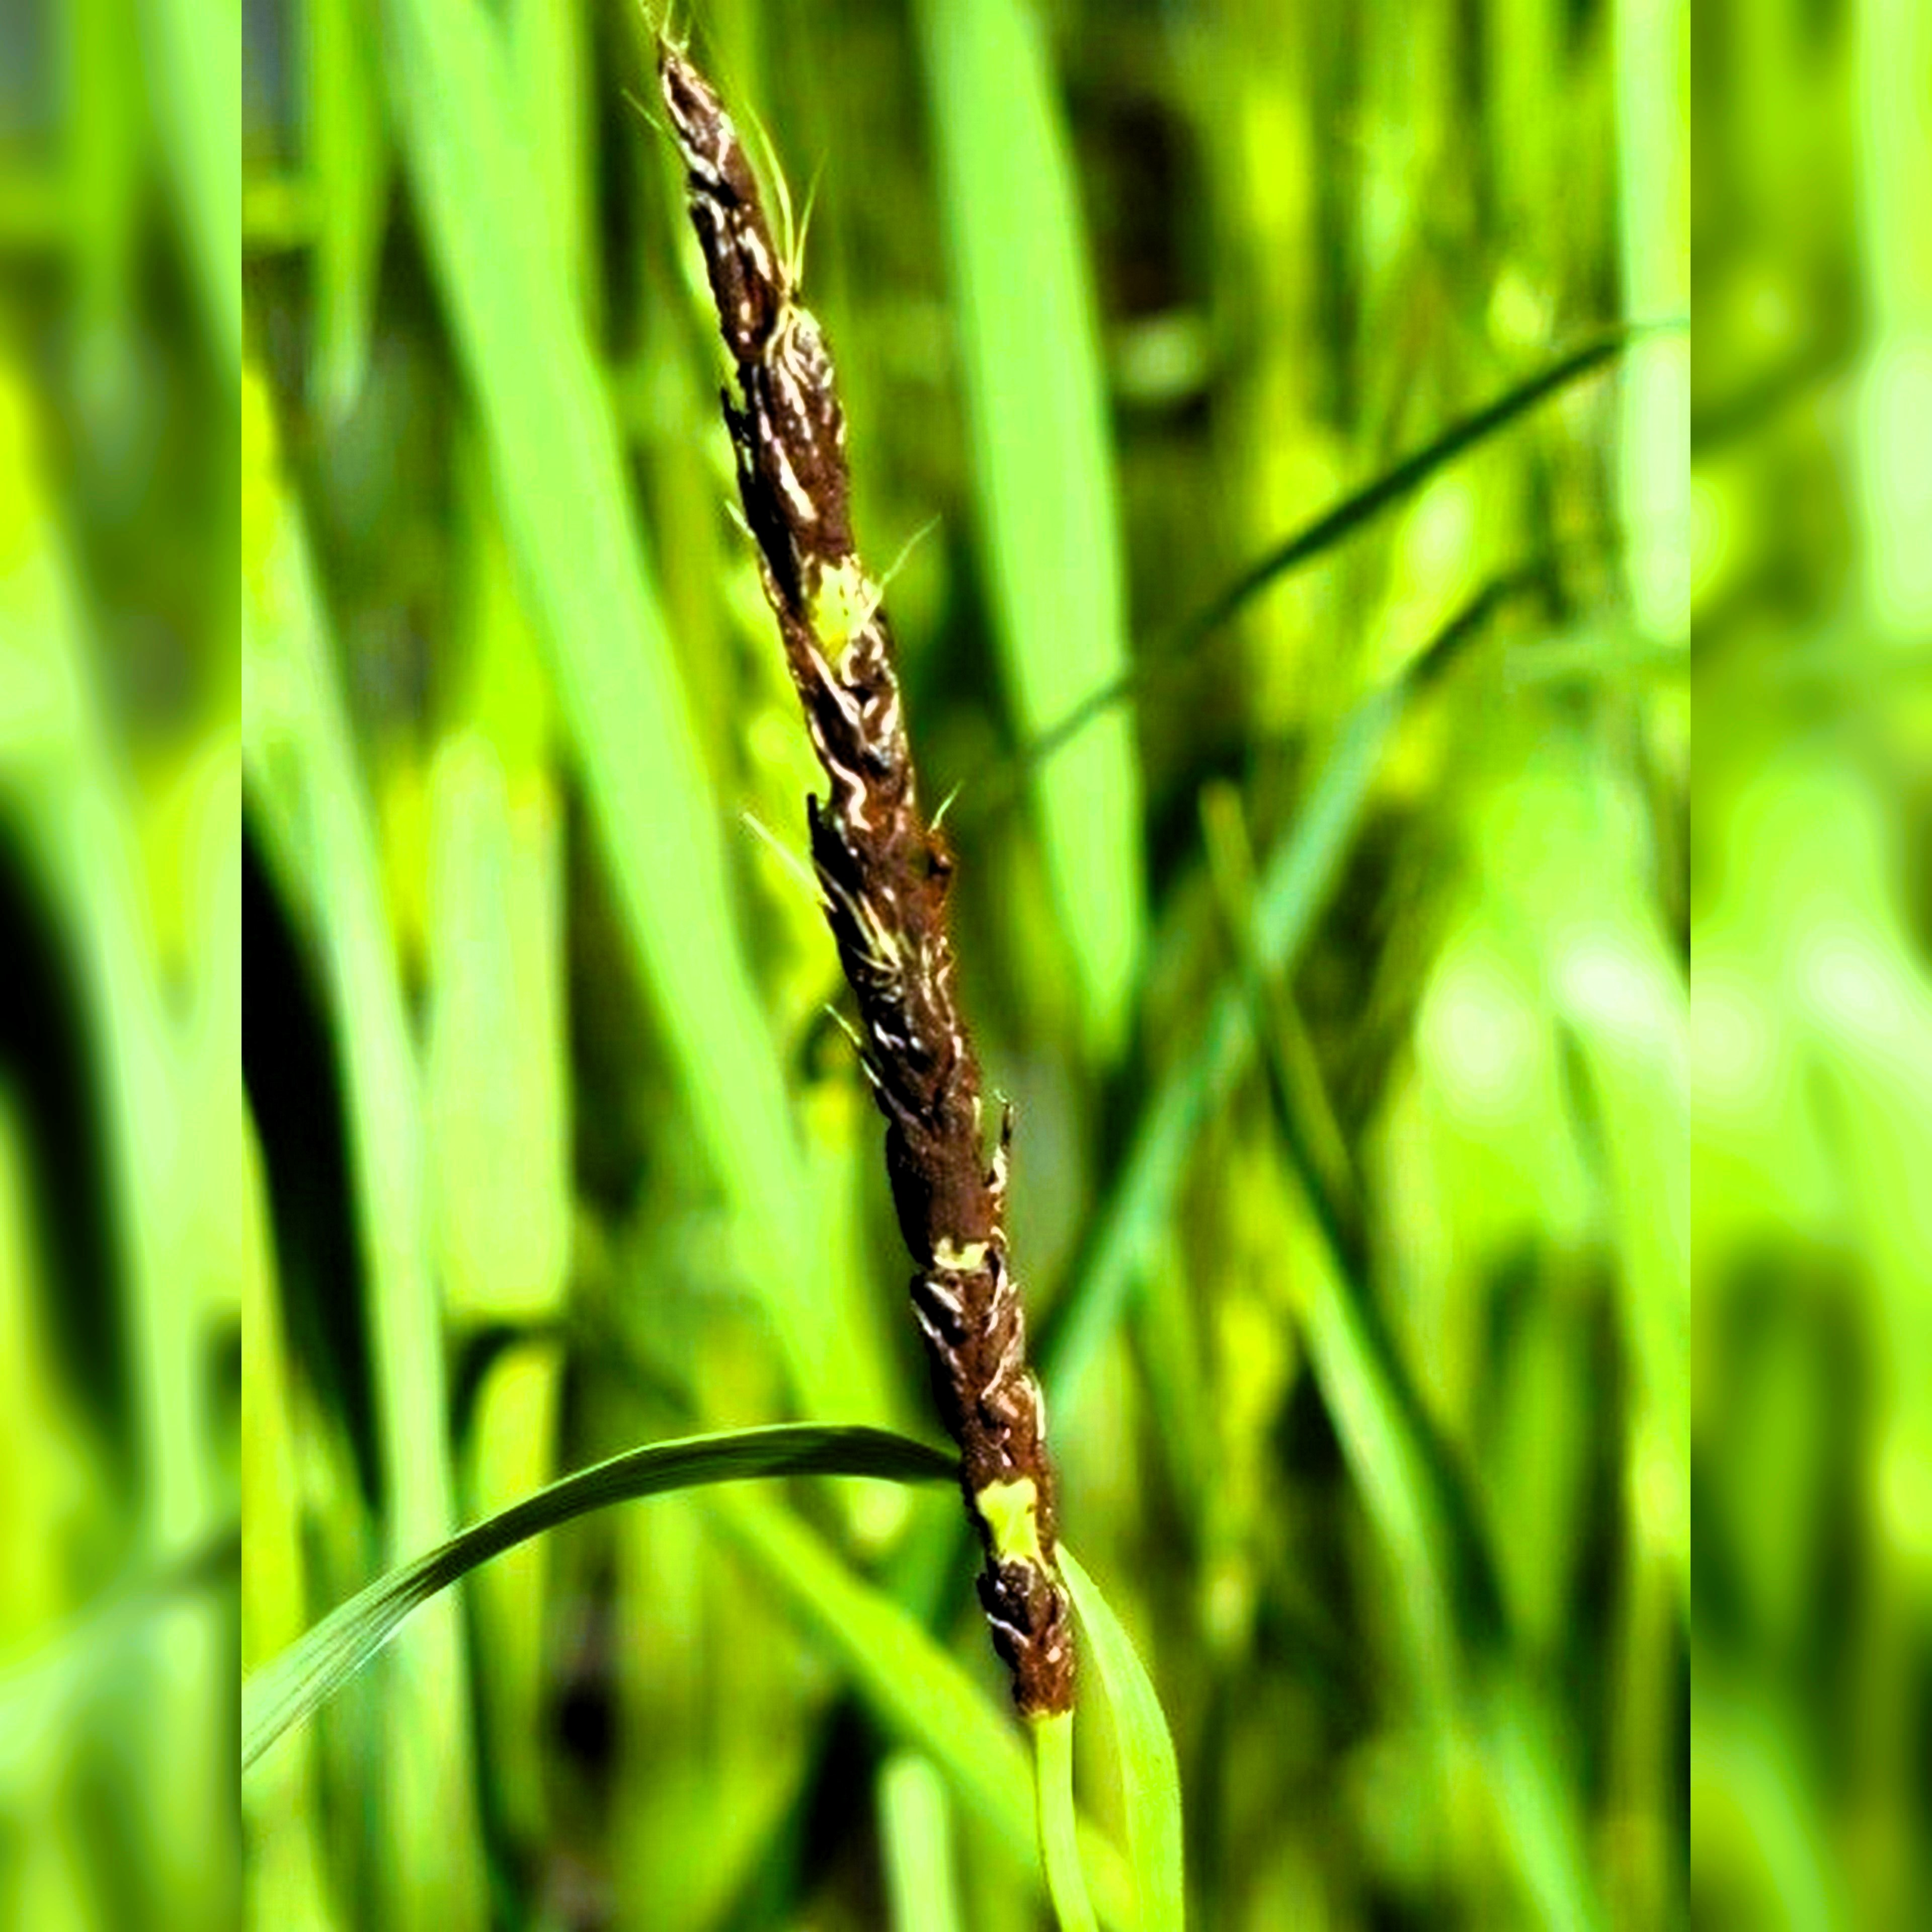Wheat Loose Smut: (676, 246, 1070, 1316)
